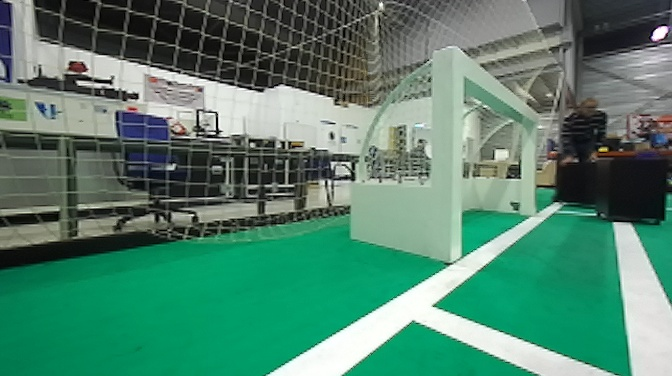goalpost: (431, 46, 461, 259), (516, 104, 541, 219)
human: (557, 94, 610, 168)
